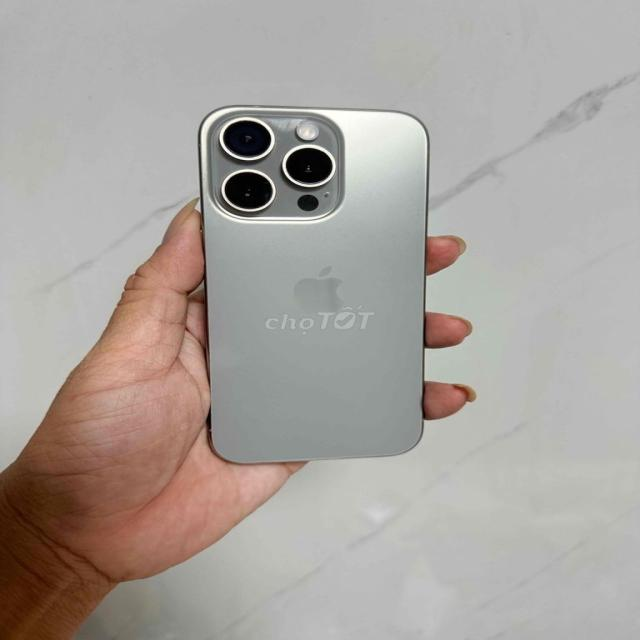gen_15: (185, 101, 447, 478)
